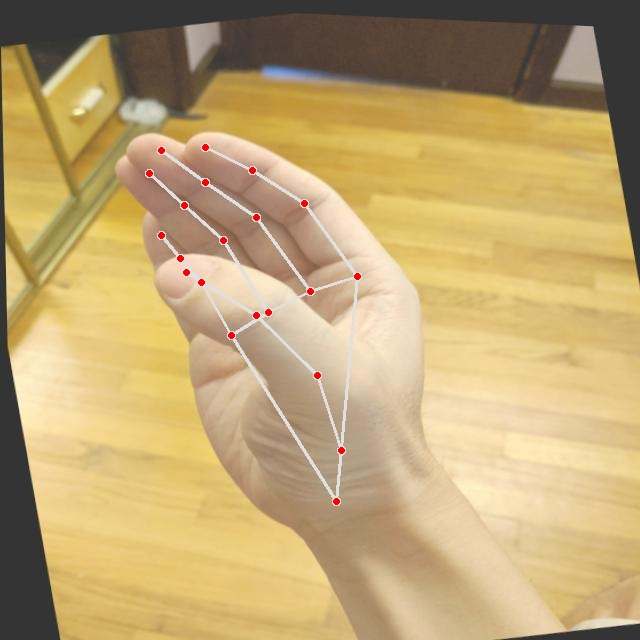C: (91, 83, 471, 572)
